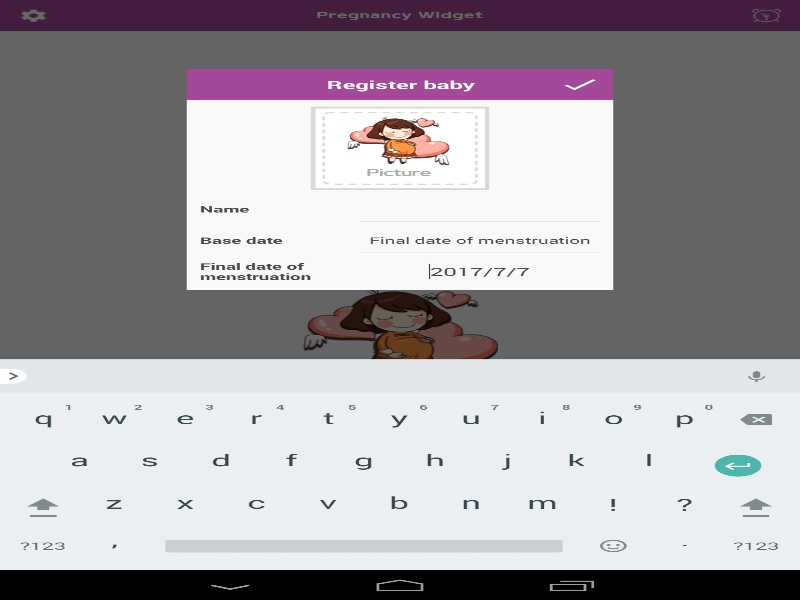Button: (560, 75, 600, 94)
Input: (360, 196, 600, 221), (360, 259, 600, 284)
